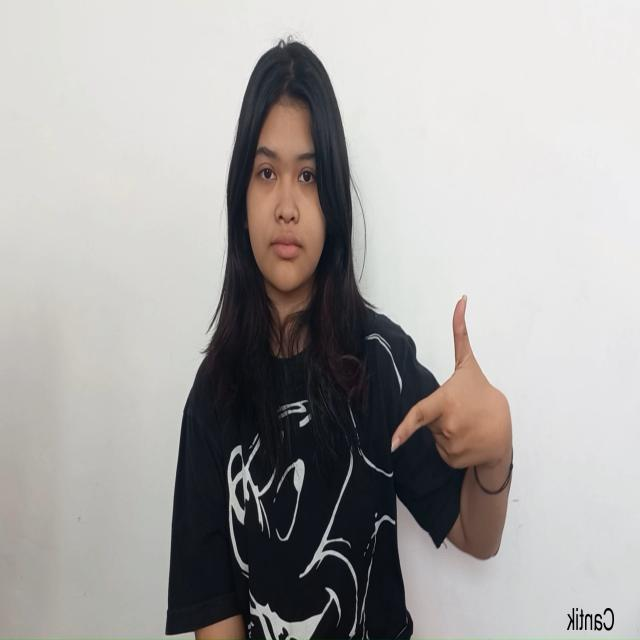Cantik -BISINDO-: (391, 292, 513, 478)
